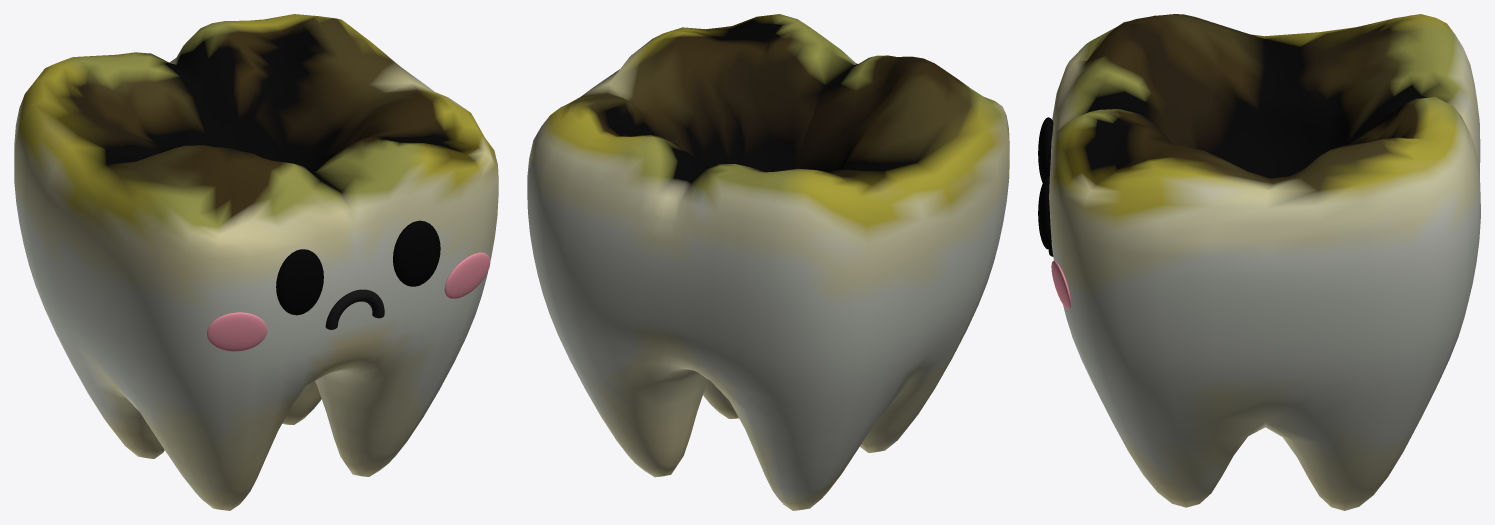
File: gigikaries.glb
The picture shows the model from 3 angles, left to right: view 1: azimuth 30°, elevation 25°; view 2: azimuth 150°, elevation 25°; view 3: azimuth 270°, elevation 25°; orthographic projection. The views are drawn at different scales.
Parts seen in each view (by area): view 1: Cube, Plane, Plane.001, Torus; view 2: Cube; view 3: Cube, Plane, Plane.001.
Boxes of the visible parts, x1=… form: Cube: x1=14, y1=14, x2=498, y2=510; Plane: x1=276, y1=220, x2=440, y2=315; Plane.001: x1=207, y1=252, x2=490, y2=351; Torus: x1=325, y1=289, x2=384, y2=329; Cube: x1=527, y1=14, x2=1009, y2=510; Cube: x1=1049, y1=14, x2=1480, y2=510; Plane: x1=1038, y1=117, x2=1053, y2=249; Plane.001: x1=1051, y1=260, x2=1070, y2=309.
Bounding box in the file's own units: 2.56 × 2.53 × 2.51.
